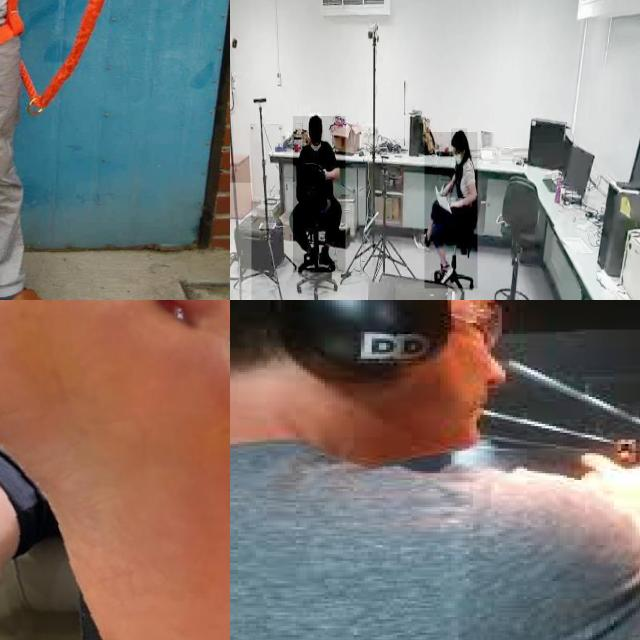Barefoots: (0, 300, 230, 640)
Ear-protection: (263, 300, 451, 383)
face_mask: (310, 130, 324, 154), (452, 147, 464, 168)
glasses: (317, 244, 337, 274), (433, 261, 454, 287), (412, 233, 432, 251)
hand_noglove: (448, 198, 462, 208)
head_nohelmet: (451, 128, 467, 146), (308, 114, 322, 128)
person: (230, 300, 640, 640), (424, 132, 478, 289), (293, 116, 346, 273)
